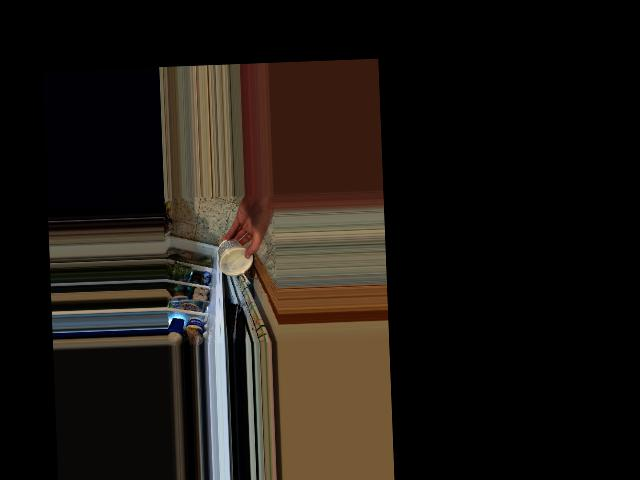cotage: (219, 240, 250, 276)
